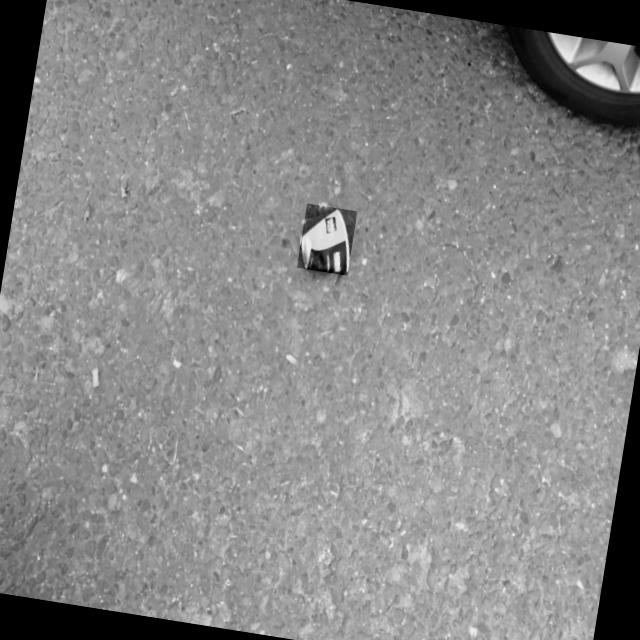Cup: (301, 209, 349, 272)
